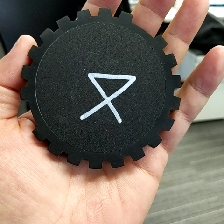gear: (18, 6, 183, 171)
missing: (117, 9, 169, 50), (19, 86, 48, 143)
